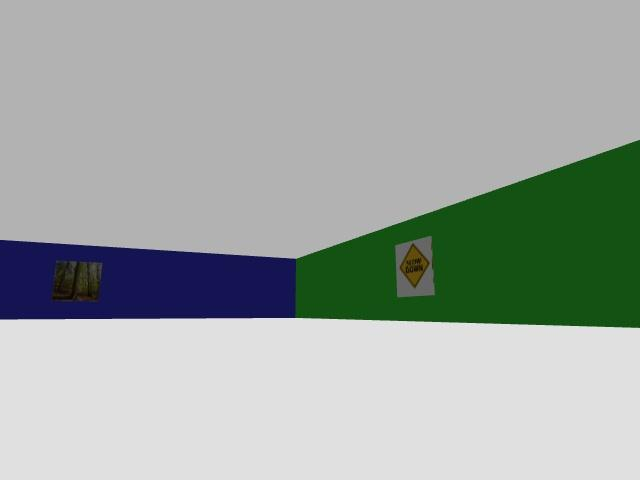slowsign: (396, 237, 434, 296)
tree: (70, 262, 80, 299), (70, 262, 79, 299), (56, 262, 68, 289), (57, 261, 68, 290), (85, 262, 92, 297), (85, 262, 90, 296), (96, 265, 100, 290)
